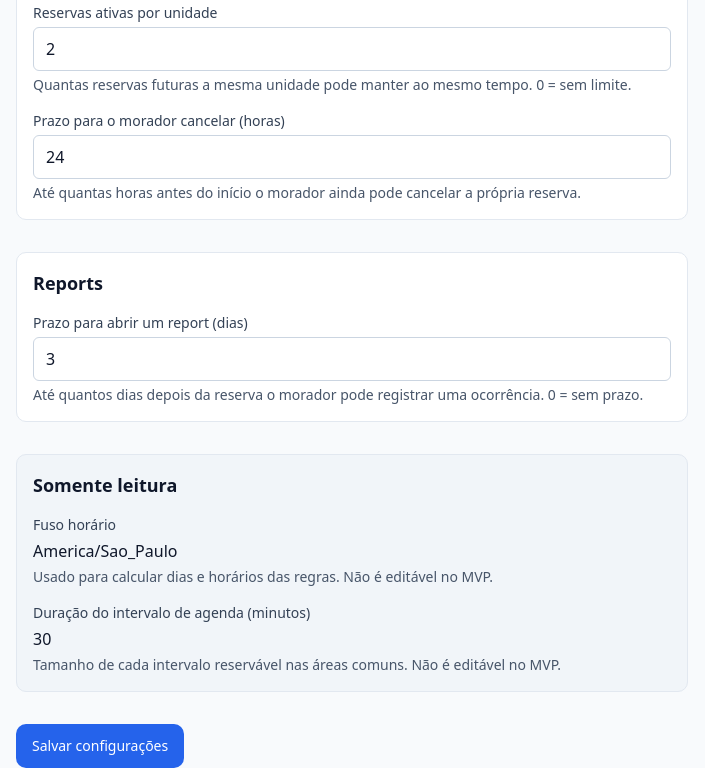
Test: SettingsPage › mostra o erro do backend sem quebrar o formulário
The width and height of the screenshot is (705, 768).
(page scrolled)
Click the button "Salvar configurações" at (100, 746), box [16,724,184,767]
(page scrolled)
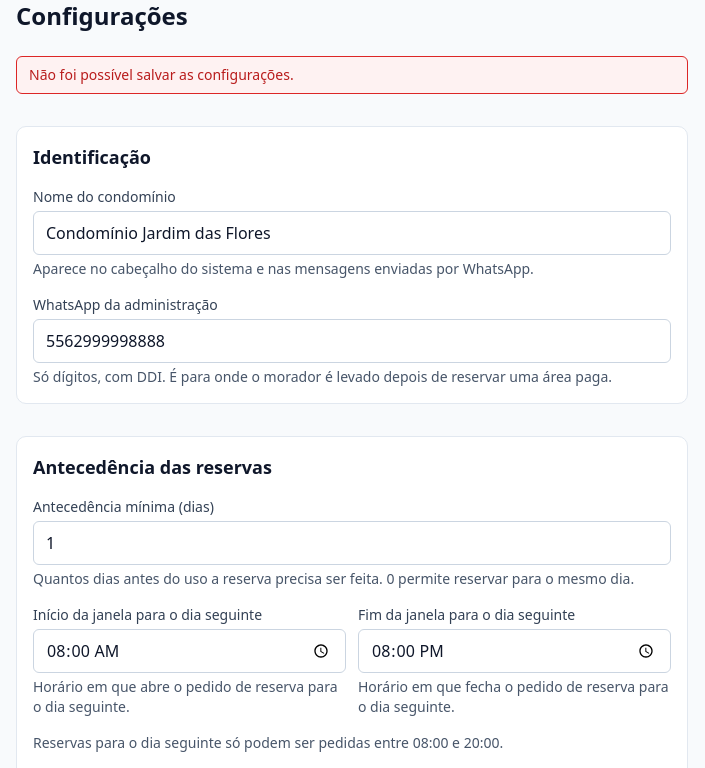
Expected: the text "Não foi possível salvar as configurações." is shown, [16,56,688,94]
